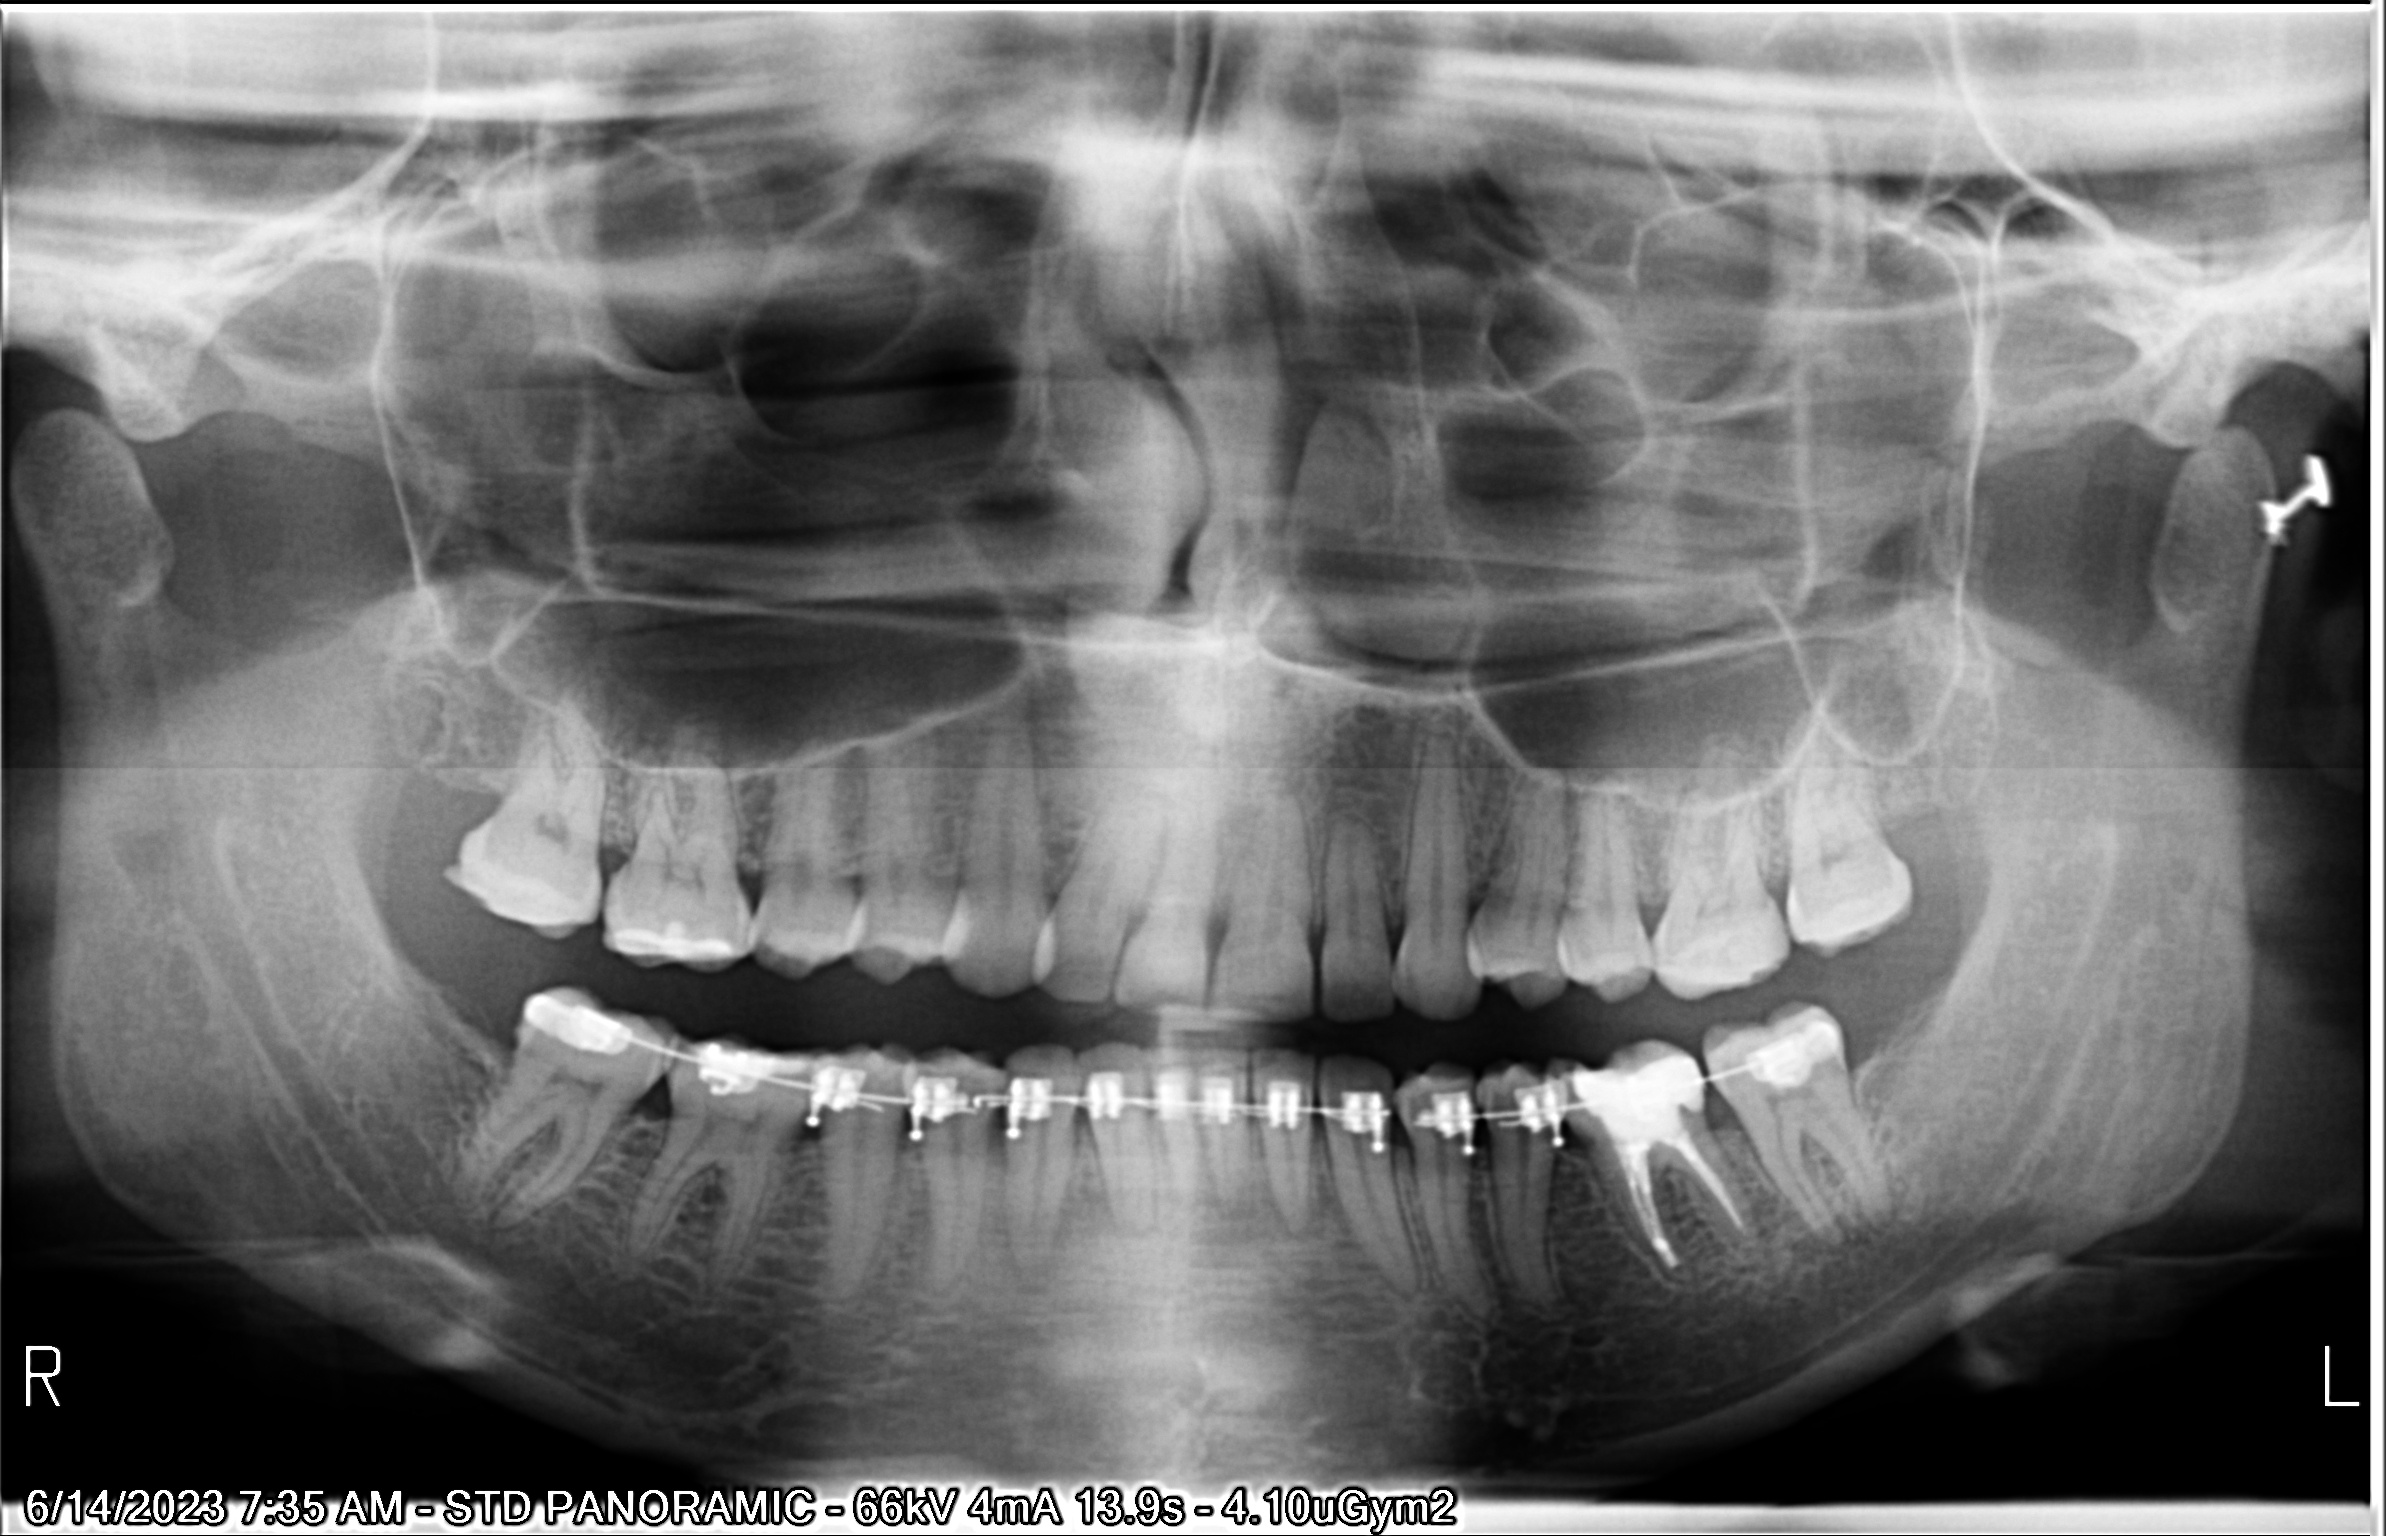END: (1661, 1132, 1751, 1245), (1623, 1150, 1676, 1273)
OBT: (1574, 1054, 1703, 1136), (1682, 932, 1776, 1007), (666, 910, 696, 964)
ORD: (536, 971, 1871, 1134)
